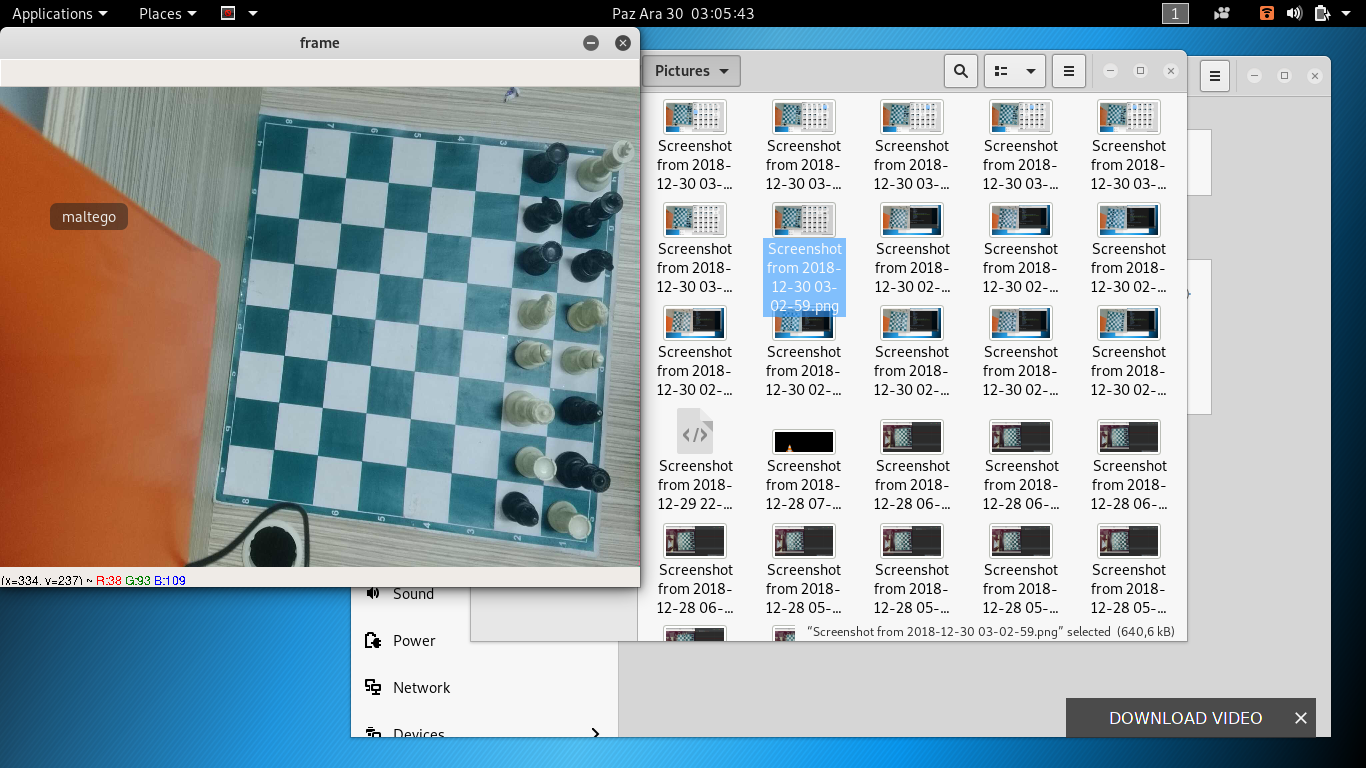BeyazAt: (515, 293, 557, 332), (564, 297, 609, 333)
BeyazFil: (561, 345, 604, 376), (515, 337, 552, 371)
BeyazKale: (549, 498, 593, 540), (513, 444, 556, 481)
BeyazSah: (577, 139, 635, 192)
BeyazVezir: (503, 388, 556, 427)
SiyahAt: (569, 249, 614, 283), (522, 197, 564, 232)
SiyahFil: (501, 490, 539, 529), (562, 394, 605, 427)
SiyahKale: (528, 142, 569, 182), (521, 241, 563, 277)
SiyahSah: (566, 192, 624, 238)
SiyahVezir: (559, 451, 612, 492)
